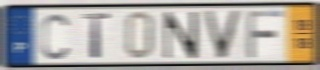0: (123, 9, 156, 61)
C: (40, 12, 71, 61)
F: (245, 9, 286, 60)
N: (162, 10, 201, 61)
T: (81, 12, 113, 61)
V: (201, 9, 246, 61)
